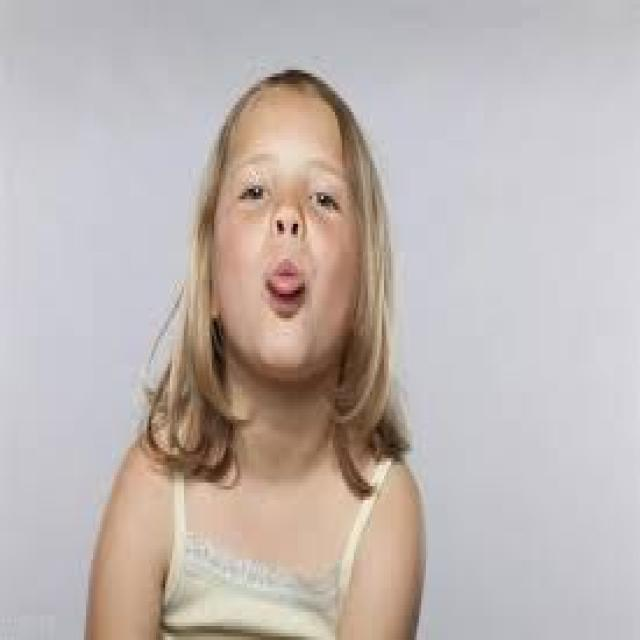tongue: (269, 275, 303, 298)
